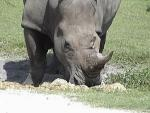rhino: (20, 1, 123, 87)
